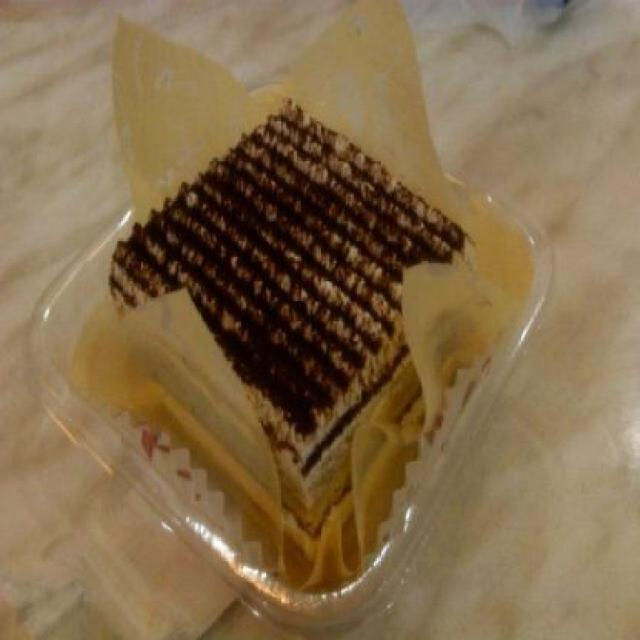Tiramisu: (76, 39, 468, 513)
